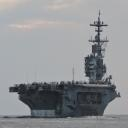Portanaves: (10, 11, 122, 120)
